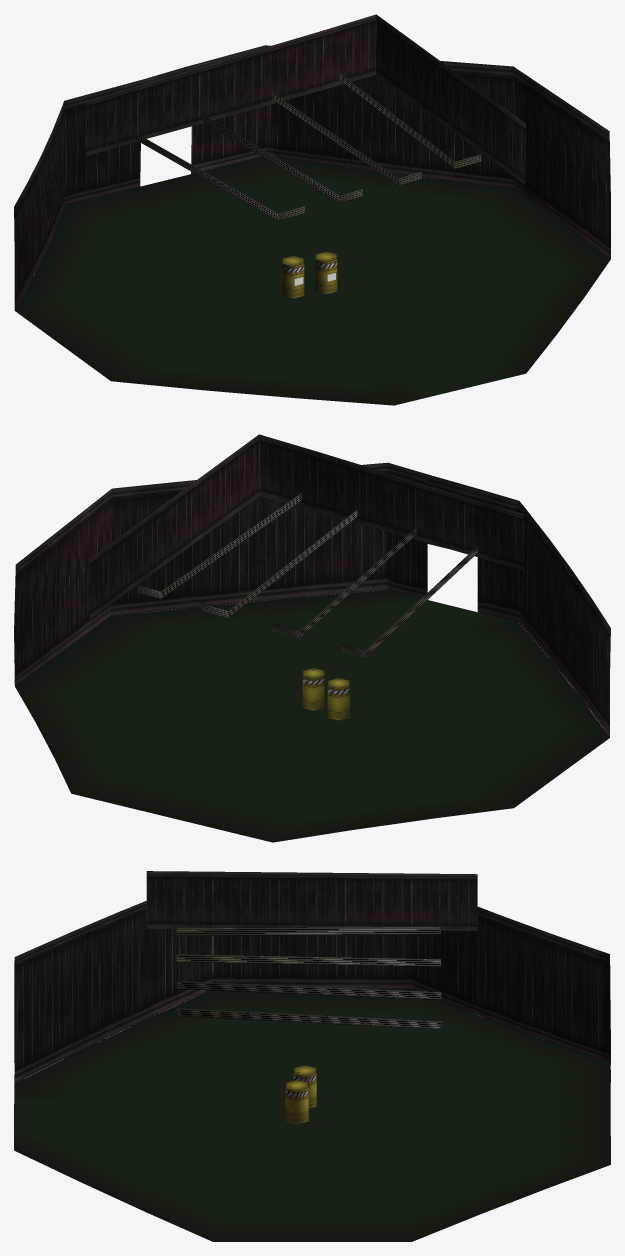
The model's file is room_12.glb.
3 renders of one model, top to bottom at view 1: azimuth 30°, elevation 25°; view 2: azimuth 150°, elevation 25°; view 3: azimuth 270°, elevation 25°, orthographic. The views are drawn at different scales.
Visible parts, largest first — view 1: floor, walls, gagTank1 (×2), Lights6, Lights4, Lights2, Lights1; view 2: floor, walls, gagTank1 (×2), Lights1, Lights2, Lights4, Lights6; view 3: floor, walls, Lights1, Lights2, Lights4, Lights6, gagTank1 (×2).
Boxes of the visible parts, x1,y1,x2,y2 form: floor: (15, 157, 610, 405); walls: (14, 14, 610, 310); gagTank1 (×2): (282, 251, 337, 298); Lights6: (134, 132, 304, 220); Lights4: (201, 113, 362, 202); Lights2: (272, 92, 421, 185); Lights1: (339, 73, 481, 169); floor: (15, 590, 609, 842); walls: (14, 434, 610, 737); gagTank1 (×2): (302, 668, 349, 720); Lights1: (137, 493, 301, 598); Lights2: (201, 510, 357, 617); Lights4: (272, 527, 416, 637); Lights6: (342, 545, 478, 656); floor: (14, 989, 610, 1241); walls: (14, 871, 610, 1131); Lights1: (176, 1008, 441, 1029); Lights2: (176, 981, 441, 999); Lights4: (176, 954, 440, 966); Lights6: (176, 927, 440, 935); gagTank1 (×2): (285, 1065, 316, 1124).
Bounding box in the file's own units: 135 × 48.33 × 135.
Materials: 9 (8 with a texture image).
